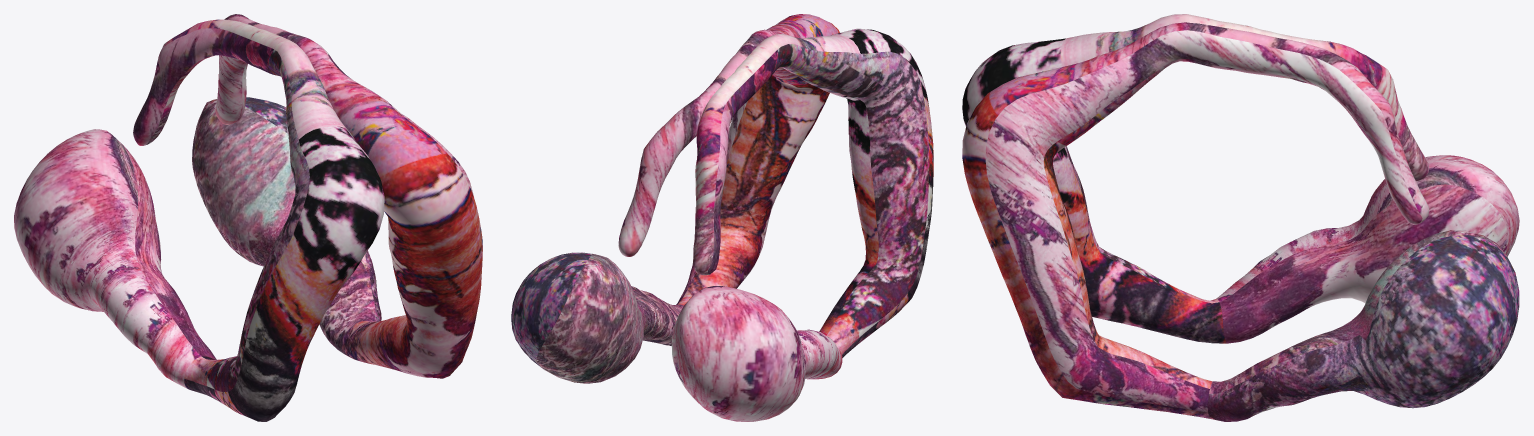
Rendered from hippocampus.gltf.
The picture shows the model from 3 angles, left to right: view 1: azimuth 30°, elevation 25°; view 2: azimuth 150°, elevation 25°; view 3: azimuth 270°, elevation 25°; orthographic projection. The views are drawn at different scales.
Parts seen in each view (by area): view 1: Default; view 2: Default; view 3: Default.
Boxes of the visible parts, x1,y1,x2,y2 form: Default: (14,14,482,421); Default: (511,14,933,421); Default: (962,14,1519,421).
Size of the model in its own units: 43.93 by 47.55 by 66.66.
1 material, 1 textured.
